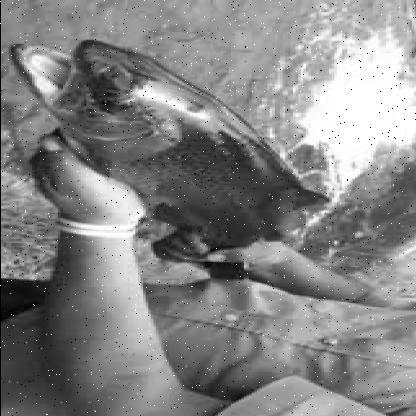fish: (15, 40, 328, 282)
